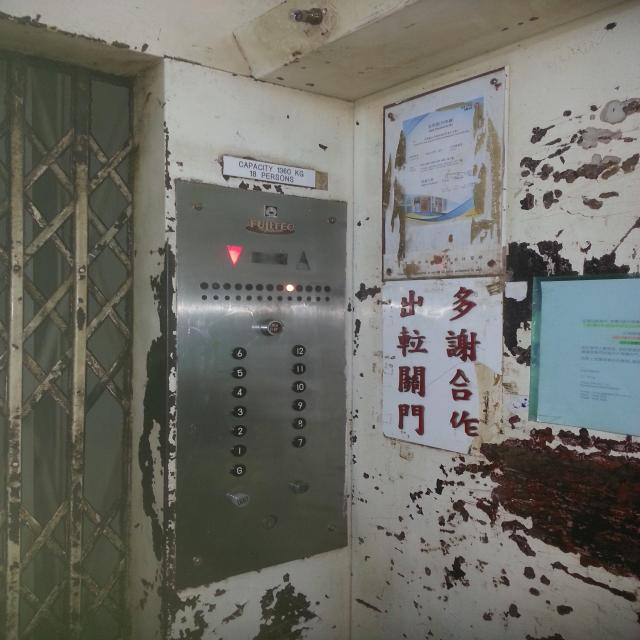1: (230, 443, 247, 457)
10: (291, 380, 306, 393)
11: (291, 362, 306, 375)
12: (291, 344, 306, 356)
2: (230, 424, 247, 437), (222, 282, 231, 290)
3: (231, 404, 246, 417), (234, 283, 242, 290)
4: (230, 385, 247, 398), (244, 283, 253, 290)
5: (230, 365, 246, 379), (256, 283, 264, 291)
6: (231, 347, 247, 359), (265, 283, 273, 291)
7: (291, 435, 306, 448), (276, 284, 283, 290)
8: (292, 416, 306, 429)
9: (291, 398, 306, 411)
G: (230, 464, 246, 476)
blur: (286, 283, 294, 292), (295, 284, 303, 292), (200, 282, 208, 289), (212, 282, 220, 289), (305, 285, 313, 292), (314, 285, 322, 292), (324, 285, 330, 292)
keyhole: (261, 514, 277, 529)
text: (260, 319, 284, 336)
text_fan: (292, 480, 309, 494)
text_light: (230, 491, 250, 507)
